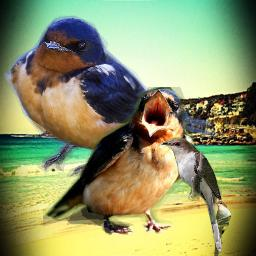Cuckoo: (160, 137, 222, 253), (213, 201, 231, 256)
Swallow: (4, 15, 215, 177), (43, 87, 196, 235)
